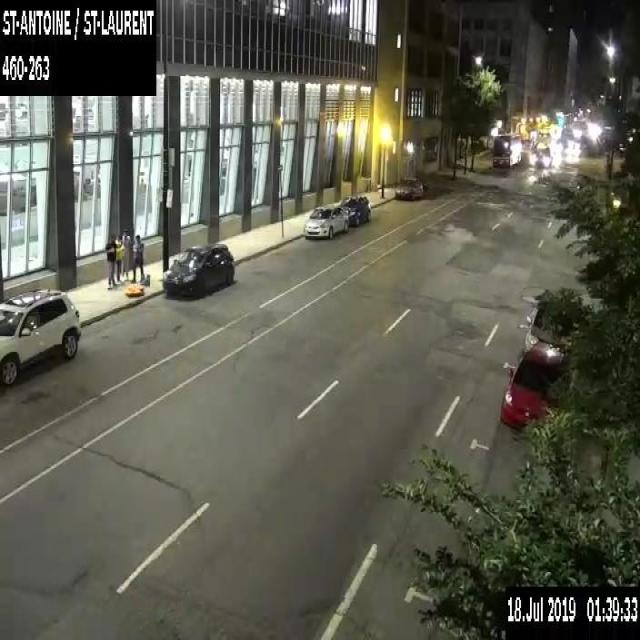bus: (491, 132, 521, 166)
construction: (124, 272, 150, 294)
pedestrian: (104, 232, 116, 290), (130, 233, 144, 282), (120, 227, 132, 279), (114, 234, 125, 283)
vehicle: (0, 286, 81, 391), (500, 338, 572, 432), (162, 241, 235, 299), (521, 304, 571, 349), (303, 204, 348, 238), (338, 194, 370, 226), (393, 178, 422, 200), (532, 148, 552, 167)
